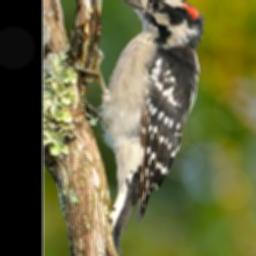Woodpecker: (78, 0, 207, 255)
